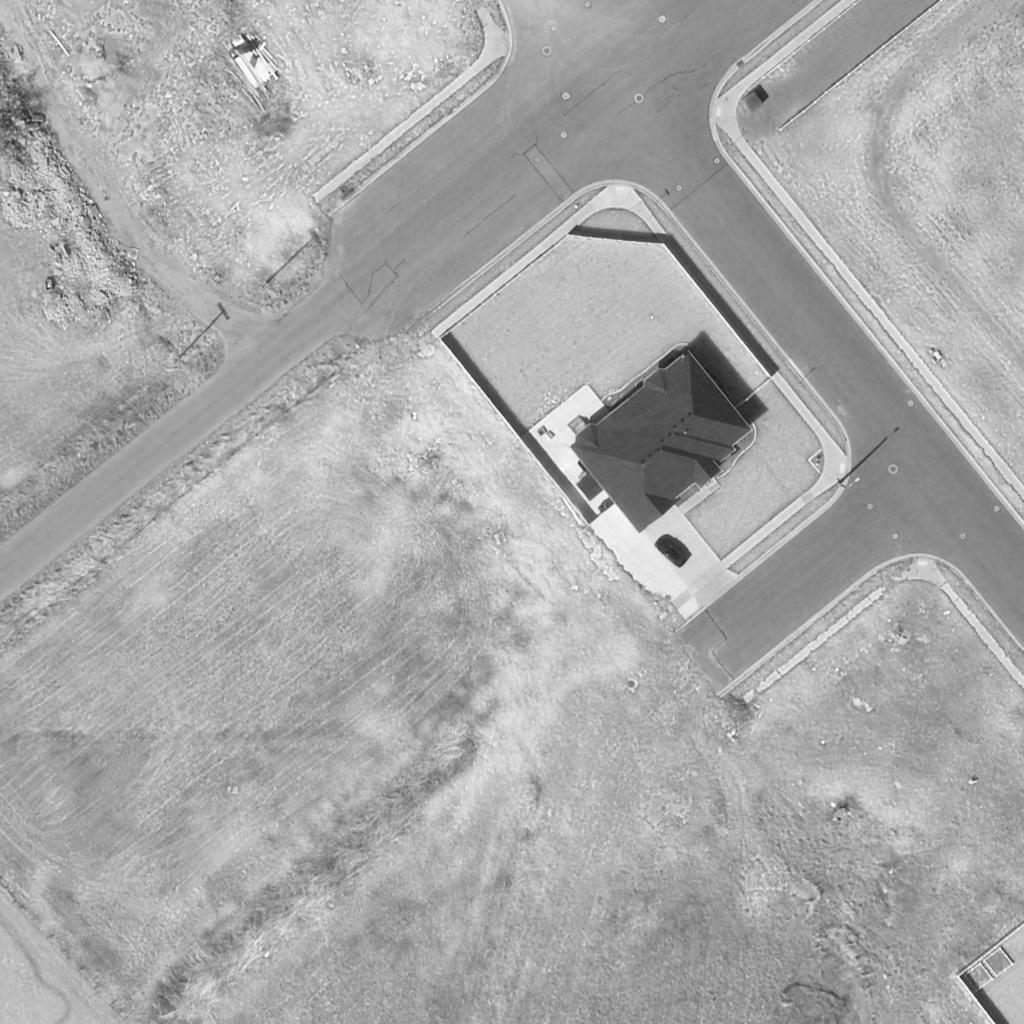vehicle: (653, 538, 687, 570)
